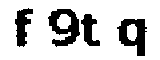9: (45, 6, 82, 50)
f: (9, 5, 37, 55)
q: (113, 15, 149, 59)
t: (81, 11, 104, 52)
